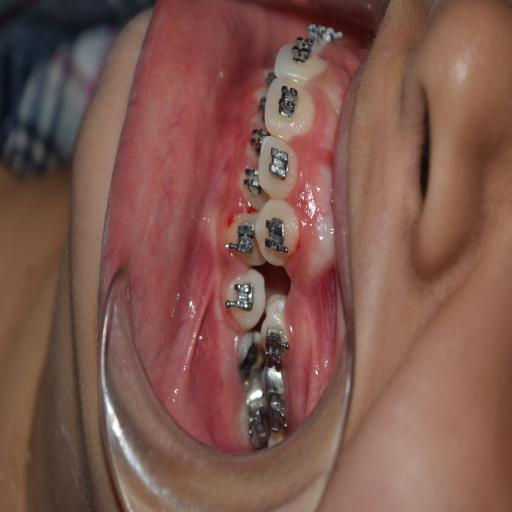correct_brace: (218, 270, 269, 330), (259, 215, 296, 257), (224, 278, 258, 318), (266, 143, 292, 182), (276, 83, 300, 120)
incorrect_brace: (255, 136, 304, 197)
